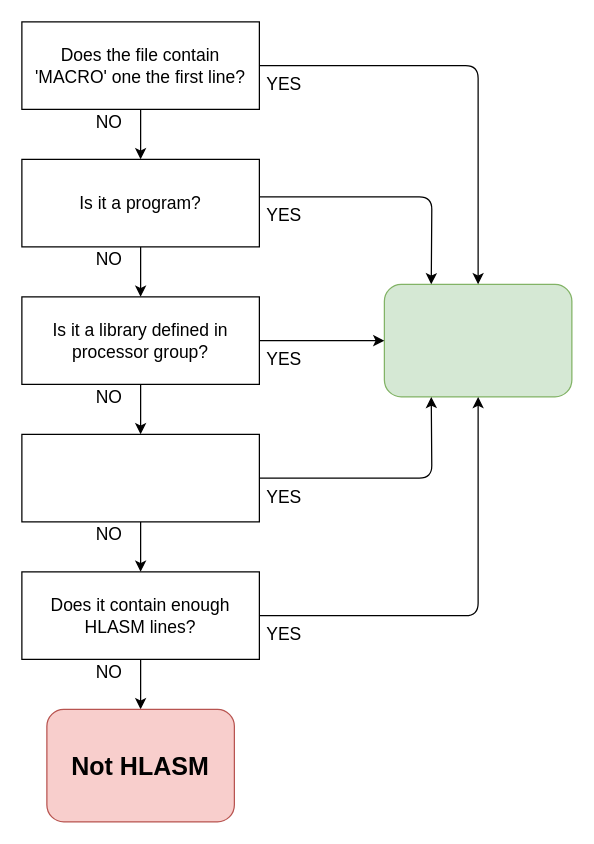
Some shapes in this 594 by 844 pixel diagram are drawn without their labels. Each missing label, with the box of its shape:
Does it suffice any of the wildcards?: (21, 433, 259, 522)
HLASM: (383, 283, 572, 397)
